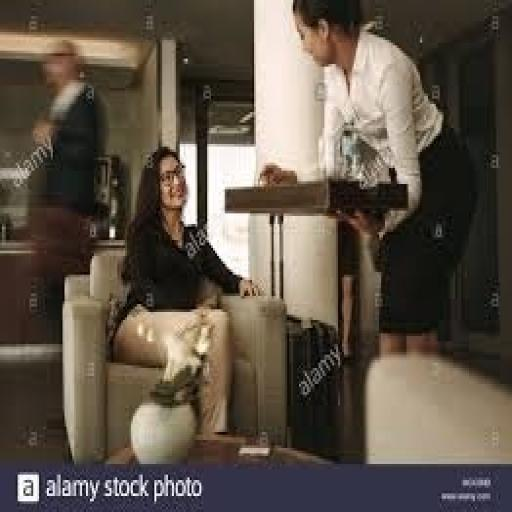sitting: (105, 144, 264, 435)
